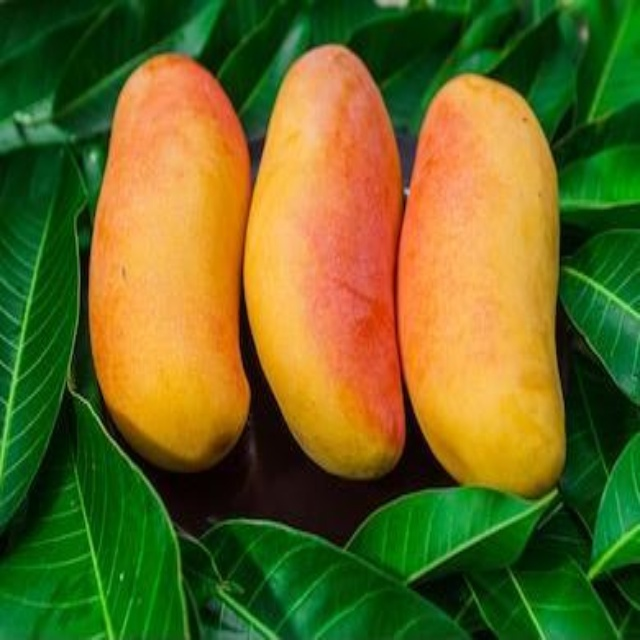mango: (86, 47, 256, 487), (405, 76, 575, 493), (246, 42, 399, 479)
